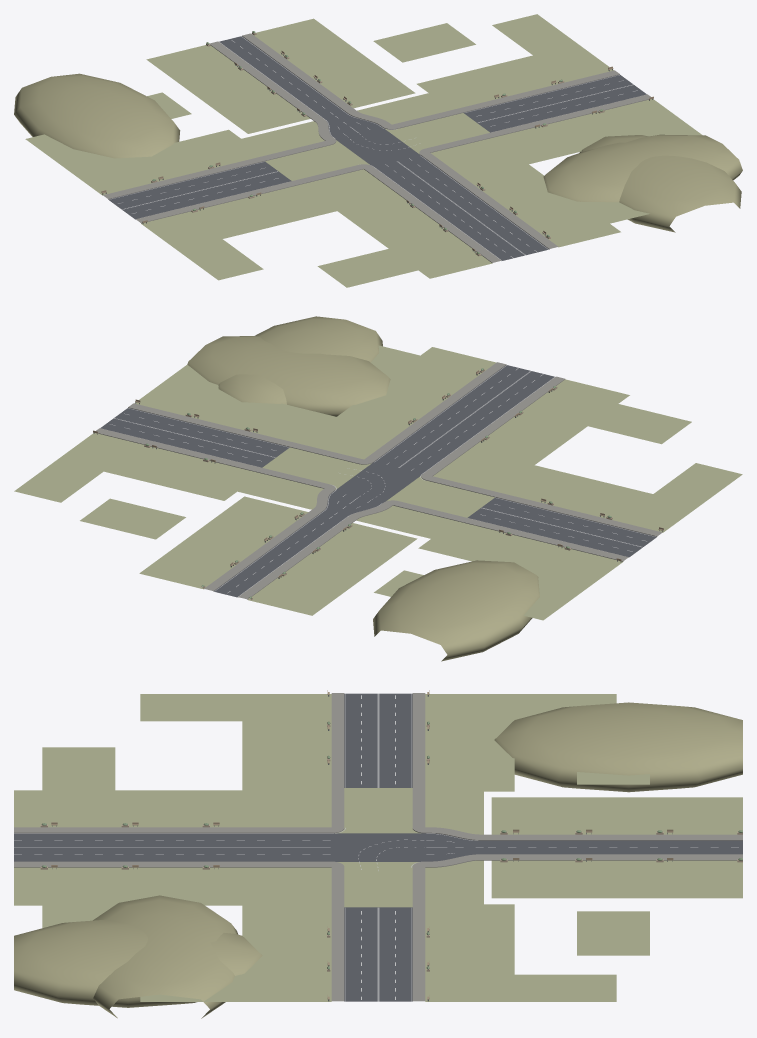
3 renders of one model, top to bottom at view 1: azimuth 30°, elevation 25°; view 2: azimuth 150°, elevation 25°; view 3: azimuth 270°, elevation 25°, orthographic. The views are drawn at different scales.
Parts seen in each view (by area): view 1: static; view 2: static; view 3: static.
Part boxes in pixels (x1=…): static: x1=14, y1=14, x2=742, y2=287; static: x1=14, y1=316, x2=742, y2=661; static: x1=14, y1=690, x2=742, y2=1018.
Size of what is drawn, in the model's own units: 180 by 14.08 by 180.
